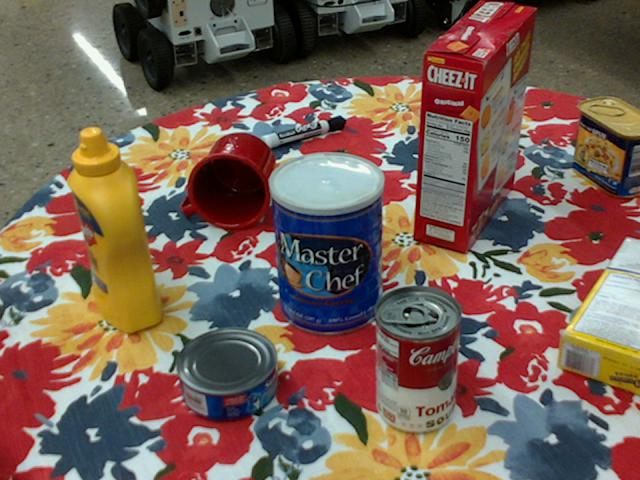cracker_box: (417, 2, 536, 252)
gelatin_box: (416, 103, 485, 154)
large_marker: (259, 114, 344, 148)
master_chef_can: (268, 152, 383, 336)
mug: (180, 132, 274, 231)
mustard_bottle: (67, 128, 164, 332)
potted_meat_can: (572, 96, 639, 196)
sugar_box: (558, 237, 639, 393)
tomato_soup_can: (374, 284, 461, 433)
tuna_fish_can: (173, 327, 275, 420)
